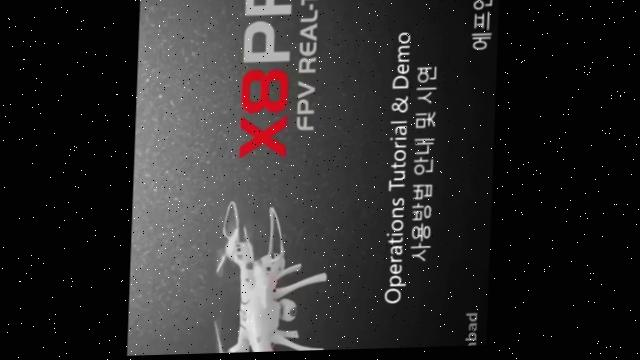drone: (213, 195, 334, 355)
